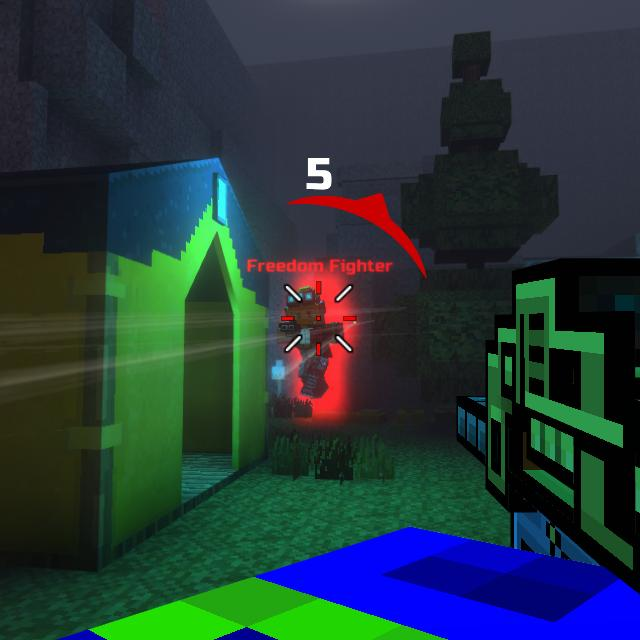Enemy: (277, 286, 344, 399)
